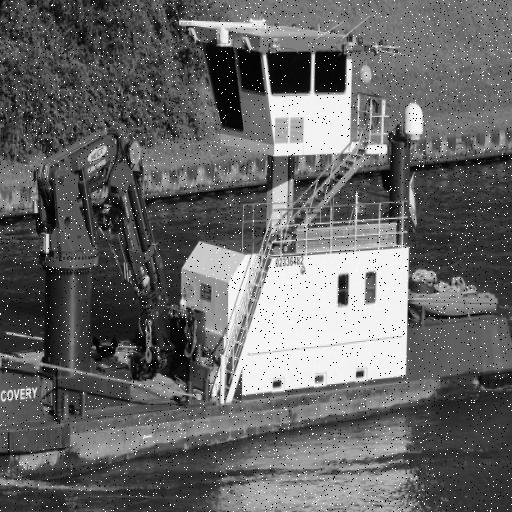tugboat: (1, 7, 512, 496)
